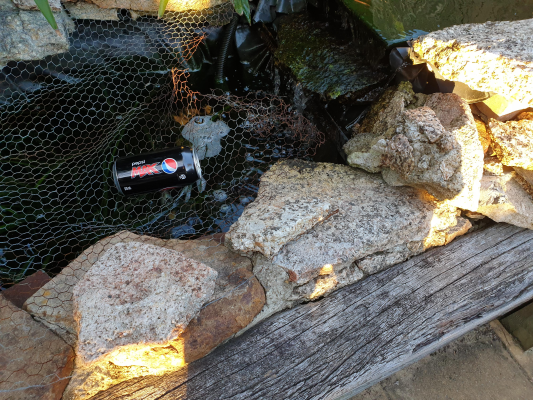Plastic Bottle: (113, 146, 201, 194)
